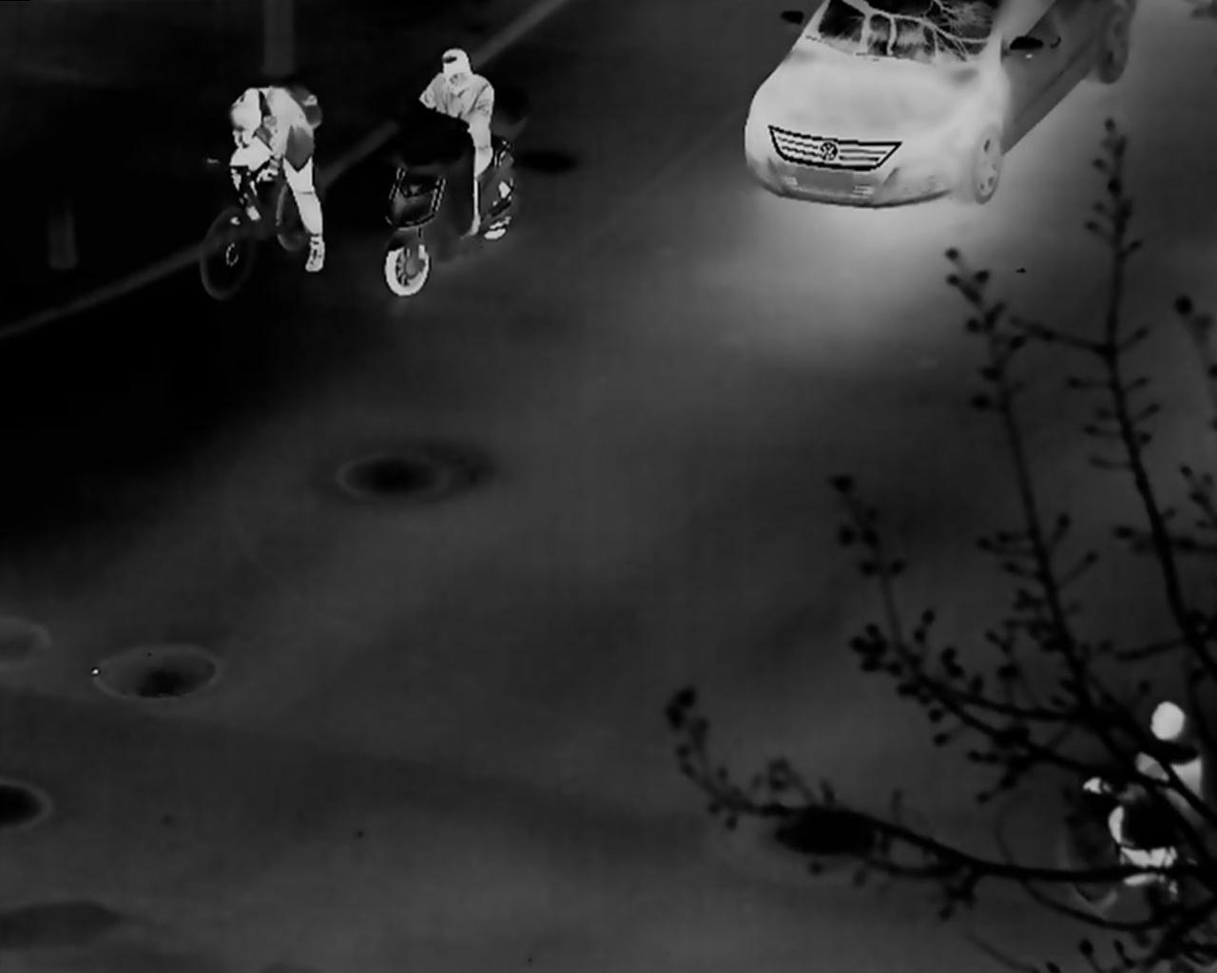person: (1081, 695, 1208, 888), (222, 82, 328, 270), (419, 42, 493, 237)
